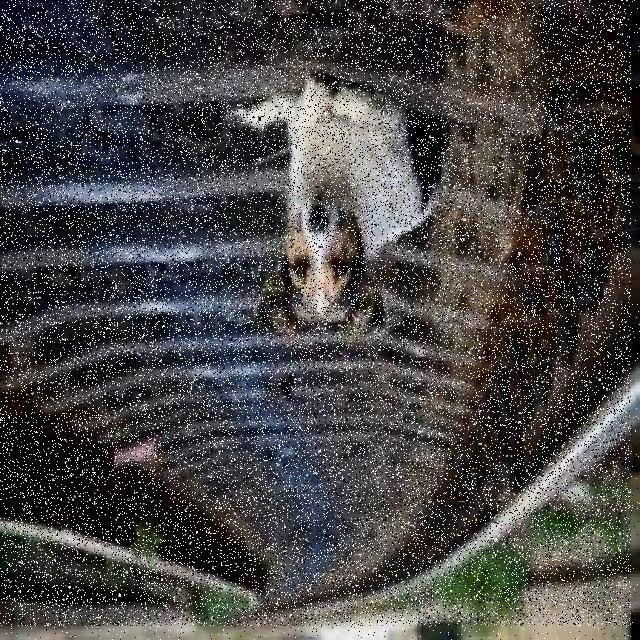danger: (246, 77, 457, 338)
rail: (0, 0, 631, 626)
